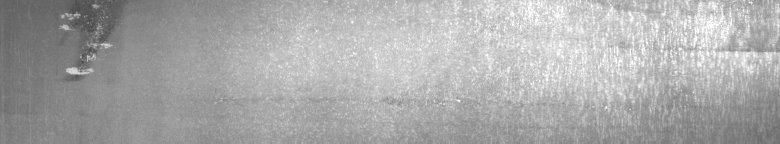hc: (59, 4, 113, 81)
